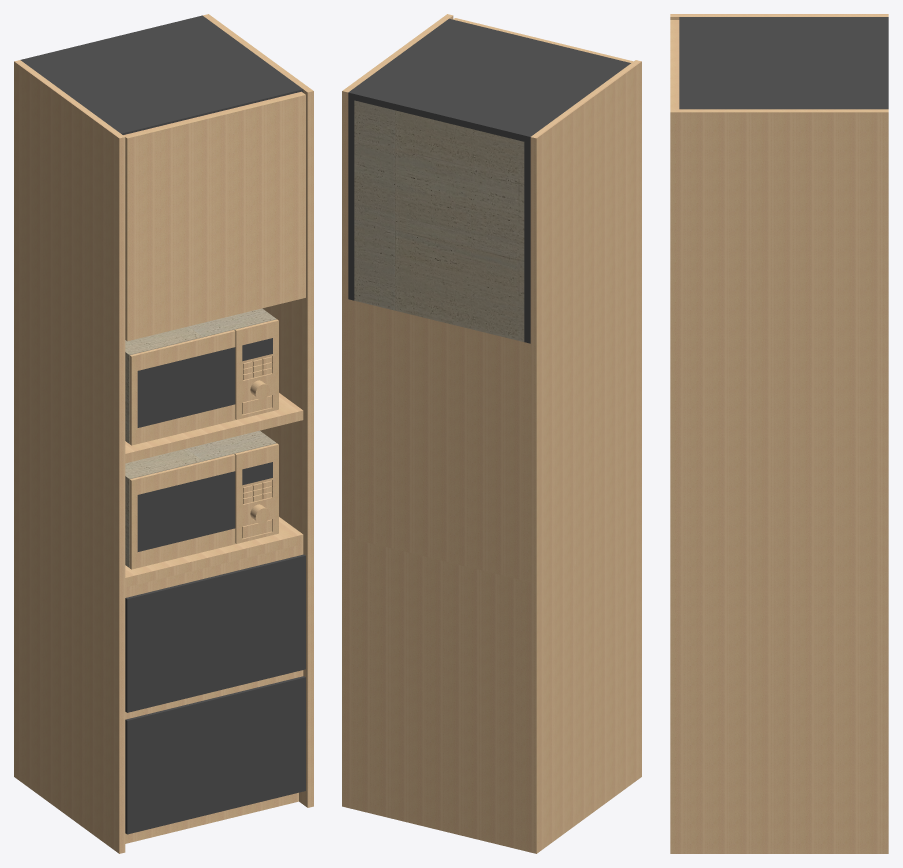
Rendered from PantryTallboy.FBX.
The picture shows the model from 3 angles, left to right: view 1: azimuth 30°, elevation 25°; view 2: azimuth 150°, elevation 25°; view 3: azimuth 270°, elevation 25°; orthographic projection. The views are drawn at different scales.
Parts seen in each view (by area): view 1: Extrusion [14360], Ovehead cabinetry (Single Casement Module) Left Handed [9466, Lower Cabinetry (2 Drawer Module)2014 Lower Cabinetry (2 Dra, Microwave_-_simple_classic_13230 46.5-W x 28-H x 34-D Alumin (×2), Extrusion [17660], Extrusion [7806]; view 2: Extrusion [14360], Ovehead cabinetry (Single Casement Module) Left Handed [9466, Lower Cabinetry (2 Drawer Module)2014 Lower Cabinetry (2 Dra, Extrusion [31264], Extrusion [7806], Extrusion [17660]; view 3: Extrusion [14360], Ovehead cabinetry (Single Casement Module) Left Handed [9466.
Part boxes in pixels (bbox=[...]): Extrusion [14360]: bbox=[14, 14, 313, 853]; Ovehead cabinetry (Single Casement Module) Left Handed [9466: bbox=[20, 15, 305, 341]; Lower Cabinetry (2 Drawer Module)2014 Lower Cabinetry (2 Dra: bbox=[125, 544, 305, 843]; Microwave_-_simple_classic_13230 46.5-W x 28-H x 34-D Alumin (×2): bbox=[125, 308, 278, 569]; Extrusion [17660]: bbox=[125, 393, 303, 463]; Extrusion [7806]: bbox=[125, 517, 303, 587]; Extrusion [14360]: bbox=[342, 14, 641, 853]; Ovehead cabinetry (Single Casement Module) Left Handed [9466: bbox=[348, 18, 633, 343]; Lower Cabinetry (2 Drawer Module)2014 Lower Cabinetry (2 Dra: bbox=[348, 547, 530, 852]; Extrusion [31264]: bbox=[348, 299, 530, 581]; Extrusion [7806]: bbox=[348, 538, 530, 591]; Extrusion [17660]: bbox=[348, 414, 530, 467]; Extrusion [14360]: bbox=[670, 14, 888, 853]; Ovehead cabinetry (Single Casement Module) Left Handed [9466: bbox=[670, 17, 888, 109].
Size of the model in its own units: 25.2 by 88.58 by 23.62.
5 materials, 4 textured.
